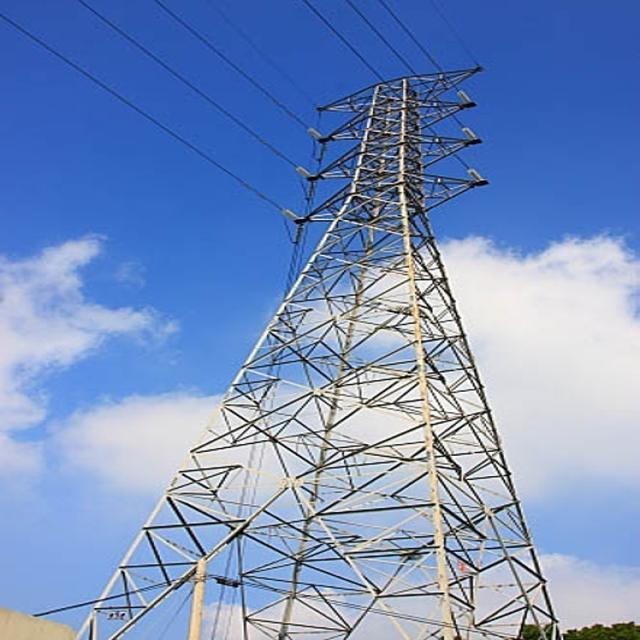non-critical vegetation: (101, 70, 573, 629)
